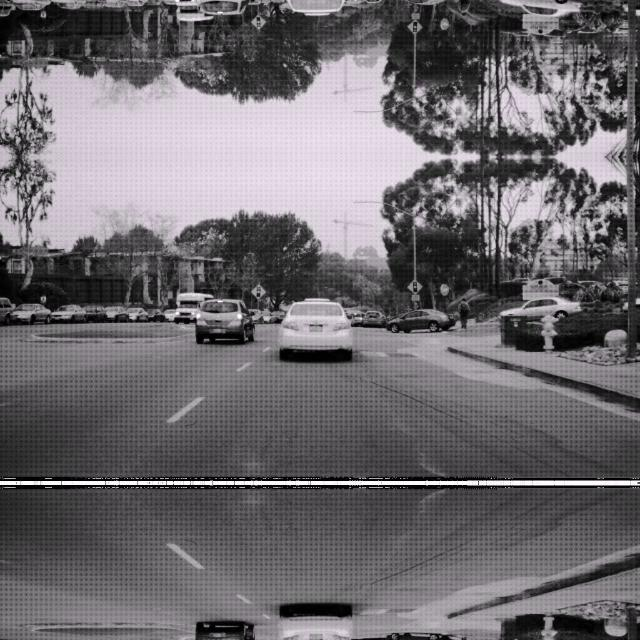signalAhead: (406, 277, 422, 293), (250, 282, 266, 298), (406, 19, 422, 35), (250, 14, 266, 30)
stop: (439, 282, 449, 294), (439, 18, 449, 30)
